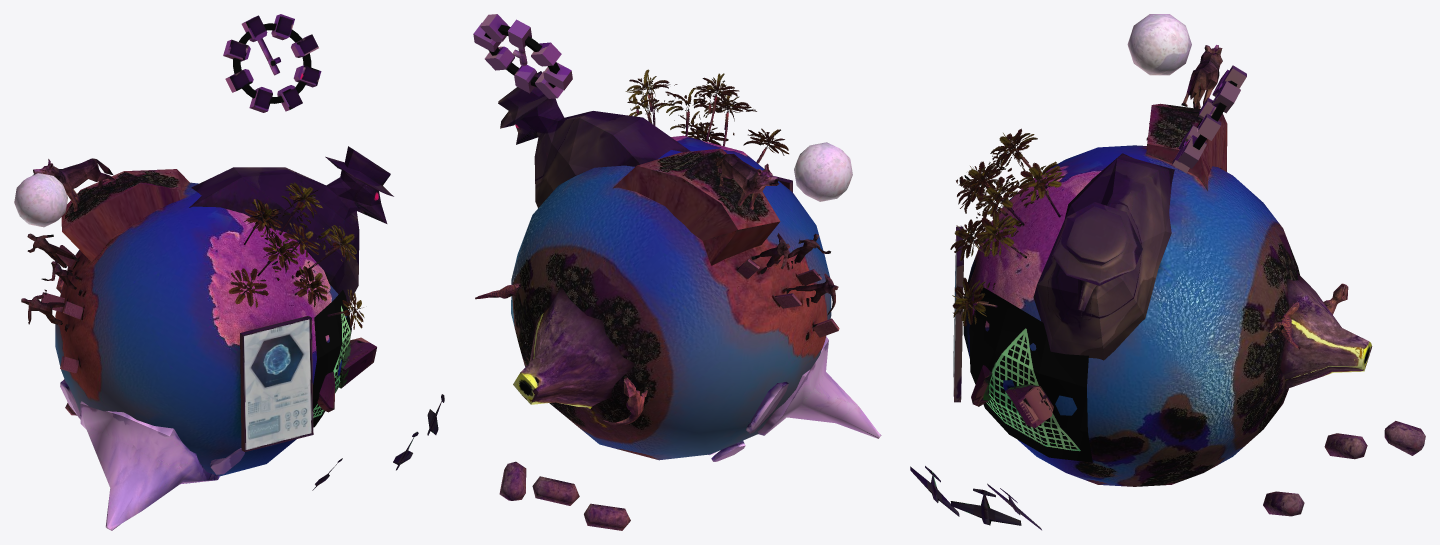
Rendered from MundoMisterio.fbx.
The picture shows the model from 3 angles, left to right: view 1: azimuth 30°, elevation 25°; view 2: azimuth 150°, elevation 25°; view 3: azimuth 270°, elevation 25°; orthographic projection. The views are drawn at different scales.
Visible parts, largest first — view 1: PLANETA, Plane002, Plane001, PALMEIRAS, pi_anc_001.002, NAVIO AVIAO, lua, zombie otimizado, Zombie1.001, Box004; view 2: PLANETA, Plane001, Plane003, Plane002, PALMEIRAS, lua, zombie otimizado, Zombie1.001, Box004, dinos; view 3: PLANETA, Plane001, pi_anc_001.002, Plane003, PALMEIRAS, NAVIO AVIAO, lua, Zombie1.001, Plane002, dinos.
Boxes of the visible parts, x1,y1,x2,y2 form: PLANETA: [55, 169, 346, 476]; Plane002: [60, 315, 313, 530]; Plane001: [189, 14, 393, 303]; PALMEIRAS: [228, 182, 364, 329]; pi_anc_001.002: [313, 290, 351, 427]; NAVIO AVIAO: [312, 337, 444, 490]; lua: [14, 173, 67, 227]; zombie otimizado: [21, 233, 82, 331]; Zombie1.001: [33, 158, 115, 211]; Box004: [41, 245, 83, 373]; PLANETA: [511, 135, 831, 460]; Plane001: [473, 14, 690, 207]; Plane003: [499, 286, 635, 530]; Plane002: [708, 176, 881, 461]; PALMEIRAS: [625, 69, 788, 163]; lua: [794, 142, 852, 201]; zombie otimizado: [751, 233, 838, 315]; Zombie1.001: [715, 153, 779, 209]; Box004: [737, 258, 839, 337]; dinos: [475, 283, 649, 425]; PLANETA: [963, 103, 1299, 486]; Plane001: [1033, 65, 1246, 360]; pi_anc_001.002: [969, 287, 1092, 462]; Plane003: [1263, 274, 1425, 516]; PALMEIRAS: [950, 128, 1065, 326]; NAVIO AVIAO: [910, 365, 1053, 530]; lua: [1127, 14, 1191, 75]; Zombie1.001: [1181, 45, 1222, 109]; Plane002: [953, 226, 963, 402]; dinos: [1263, 283, 1348, 349].
Size of the model in its own units: 695 by 775 by 750.
